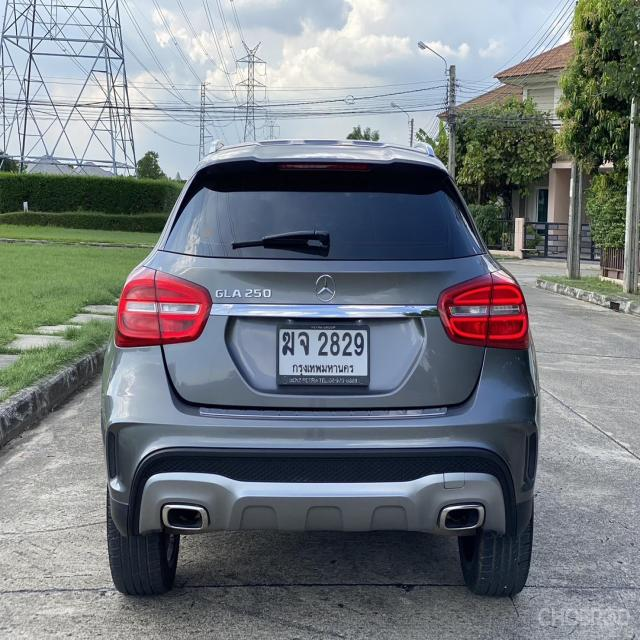license_plate: (275, 320, 370, 387)
